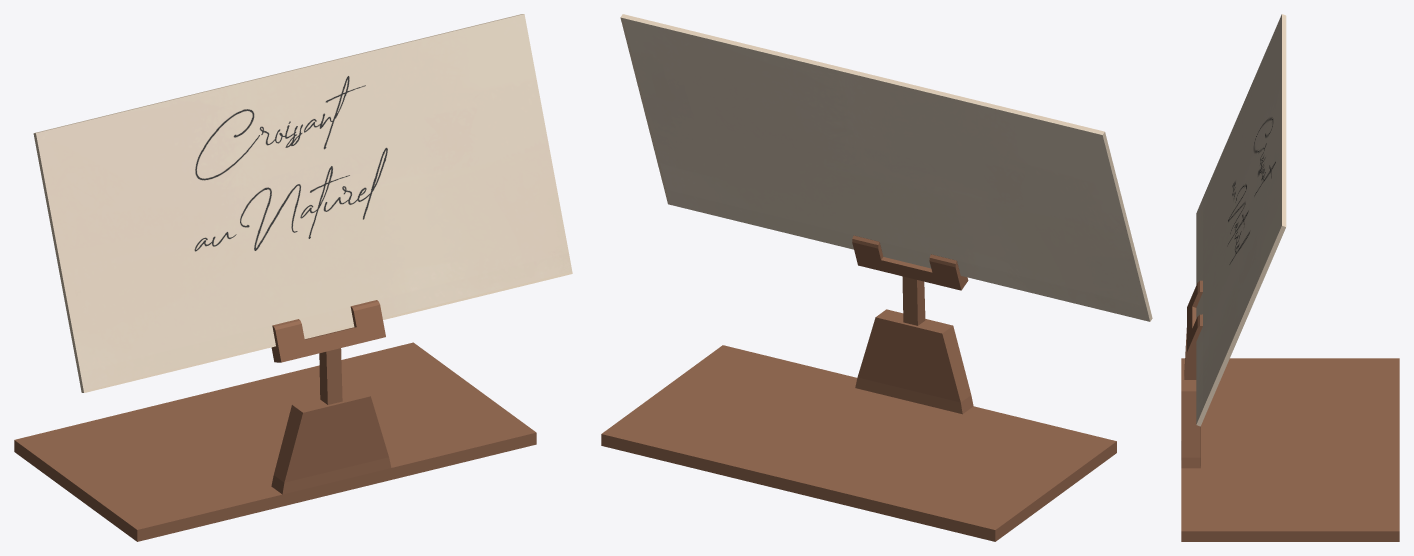
File: m_price cardsV1.fbx
3 renders of one model, left to right at view 1: azimuth 30°, elevation 25°; view 2: azimuth 150°, elevation 25°; view 3: azimuth 270°, elevation 25°, orthographic. The views are drawn at different scales.
Visible parts, largest first — view 1: price card tall.001; view 2: price card tall.001; view 3: price card tall.001.
Part boxes in pixels (left/top/right/bottom): price card tall.001: left=14, top=14, right=572, bottom=541; price card tall.001: left=601, top=14, right=1152, bottom=541; price card tall.001: left=1181, top=14, right=1399, bottom=541.
Size of the model in its own units: 14.91 by 11.03 by 6.51.
